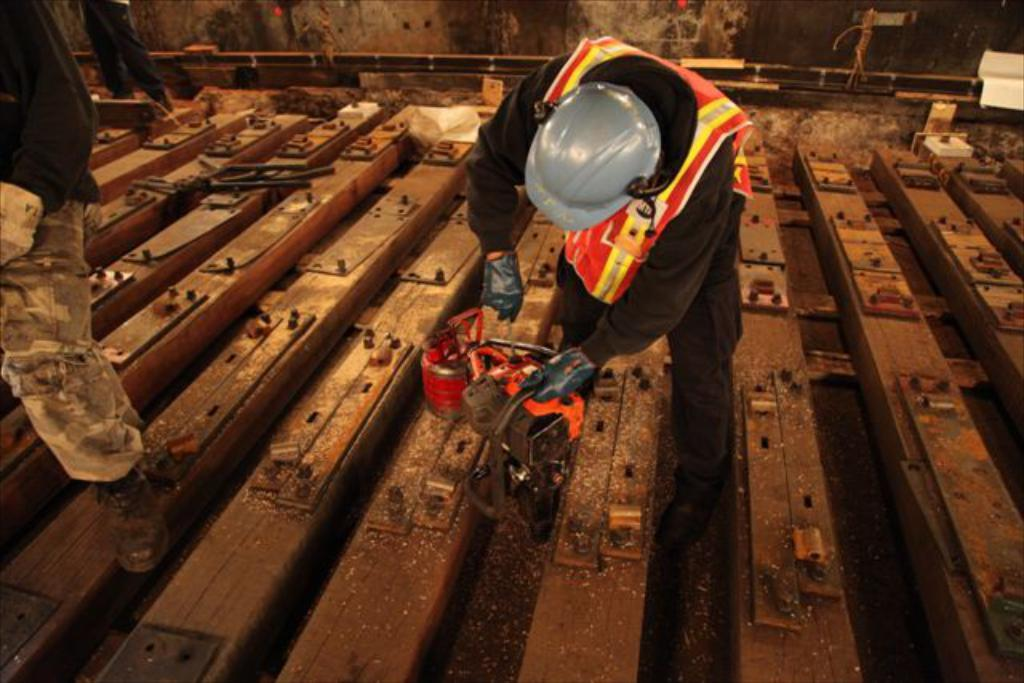helmet: (524, 81, 662, 231)
